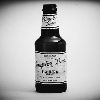beer: (34, 4, 69, 93)
